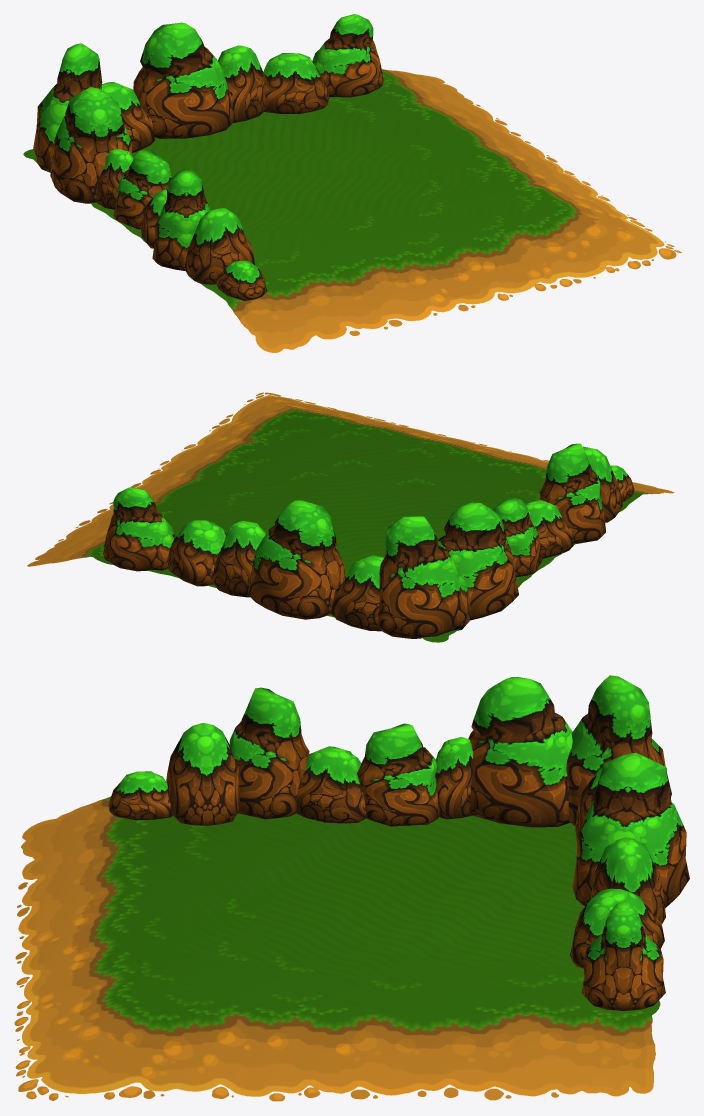
Rendered from Land_01.FBX.
3 views of the same model, one above another, from view 1: azimuth 30°, elevation 25°; view 2: azimuth 150°, elevation 25°; view 3: azimuth 270°, elevation 25° (orthographic). The views are drawn at different scales.
Visible parts, largest first — view 1: Land_01, Land_Rock_01a001; view 2: Land_Rock_01a001, Land_01; view 3: Land_01, Land_Rock_01a001.
Part boxes in pixels (x1,y1,x2,y2): Land_01: (23, 69, 681, 352); Land_Rock_01a001: (33, 14, 383, 300); Land_Rock_01a001: (103, 443, 634, 638); Land_01: (27, 392, 674, 642); Land_01: (14, 796, 660, 1101); Land_Rock_01a001: (108, 675, 689, 1010).
Bounding box in the file's own units: 5233 × 1532 × 5300.
